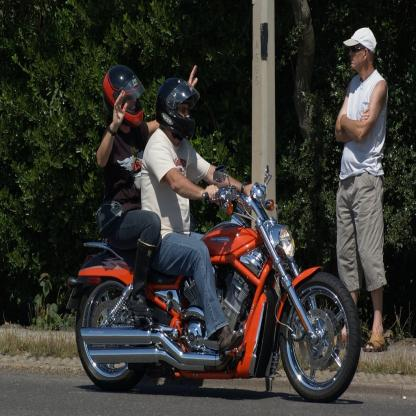Helmet: (152, 73, 200, 146), (102, 65, 144, 133)
